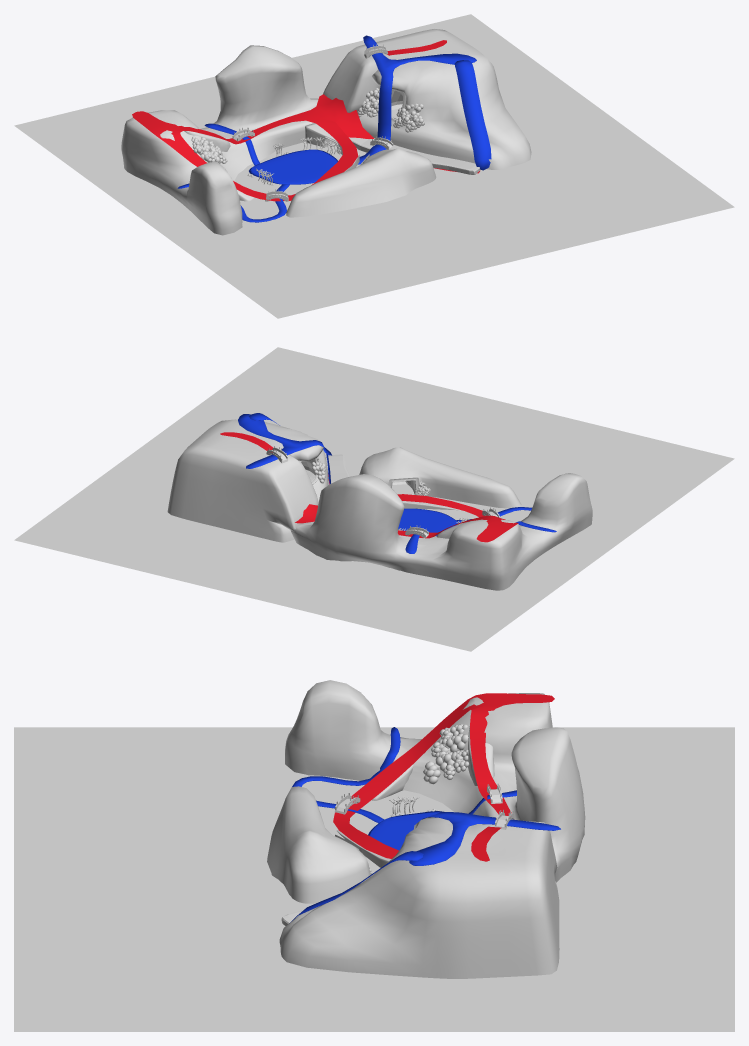
File: Jungle_layout_final.fbx
3 views of the same model, one above another, from view 1: azimuth 30°, elevation 25°; view 2: azimuth 150°, elevation 25°; view 3: azimuth 270°, elevation 25° (orthographic). The views are drawn at different scales.
Visible parts, largest first — view 1: Ground_level, Mountain_2, Mountain_1, Mountain_3, Pathway, Lake, Waterway_1, Waterway_4, Rock_4, Rockl_2; view 2: Ground_level, Mountain_2, Mountain_1, Mountain_3, Pathway, Waterway_1, Lake; view 3: Ground_level, Mountain_1, Mountain_2, Mountain_3, Pathway, Waterway_1, Lake, Waterway_2, Cluster_boulder_2.004.
Part boxes in pixels (left/top/right/bottom): Ground_level: left=14, top=14, right=734, bottom=318; Mountain_2: left=121, top=45, right=318, bottom=235; Mountain_1: left=323, top=29, right=531, bottom=169; Mountain_3: left=286, top=148, right=436, bottom=217; Pathway: left=132, top=40, right=479, bottom=201; Lake: left=249, top=149, right=337, bottom=184; Waterway_1: left=358, top=35, right=476, bottom=164; Waterway_4: left=454, top=60, right=491, bottom=170; Rock_4: left=349, top=137, right=480, bottom=174; Rockl_2: left=305, top=123, right=359, bottom=171; Ground_level: left=14, top=347, right=734, bottom=651; Mountain_2: left=290, top=473, right=592, bottom=590; Mountain_1: left=167, top=419, right=328, bottom=542; Mountain_3: left=359, top=447, right=521, bottom=508; Pathway: left=220, top=432, right=518, bottom=542; Waterway_1: left=238, top=414, right=330, bottom=483; Lake: left=398, top=508, right=458, bottom=535; Ground_level: left=14, top=727, right=734, bottom=1031; Mountain_1: left=279, top=817, right=559, bottom=978; Mountain_2: left=285, top=680, right=585, bottom=882; Mountain_3: left=267, top=786, right=370, bottom=903; Pathway: left=333, top=693, right=554, bottom=861; Waterway_1: left=409, top=812, right=560, bottom=865; Lake: left=368, top=811, right=444, bottom=850; Waterway_2: left=292, top=727, right=400, bottom=823; Cluster_boulder_2.004: left=423, top=734, right=468, bottom=784.
Size of the model in its own units: 34410 by 6432 by 34410.
